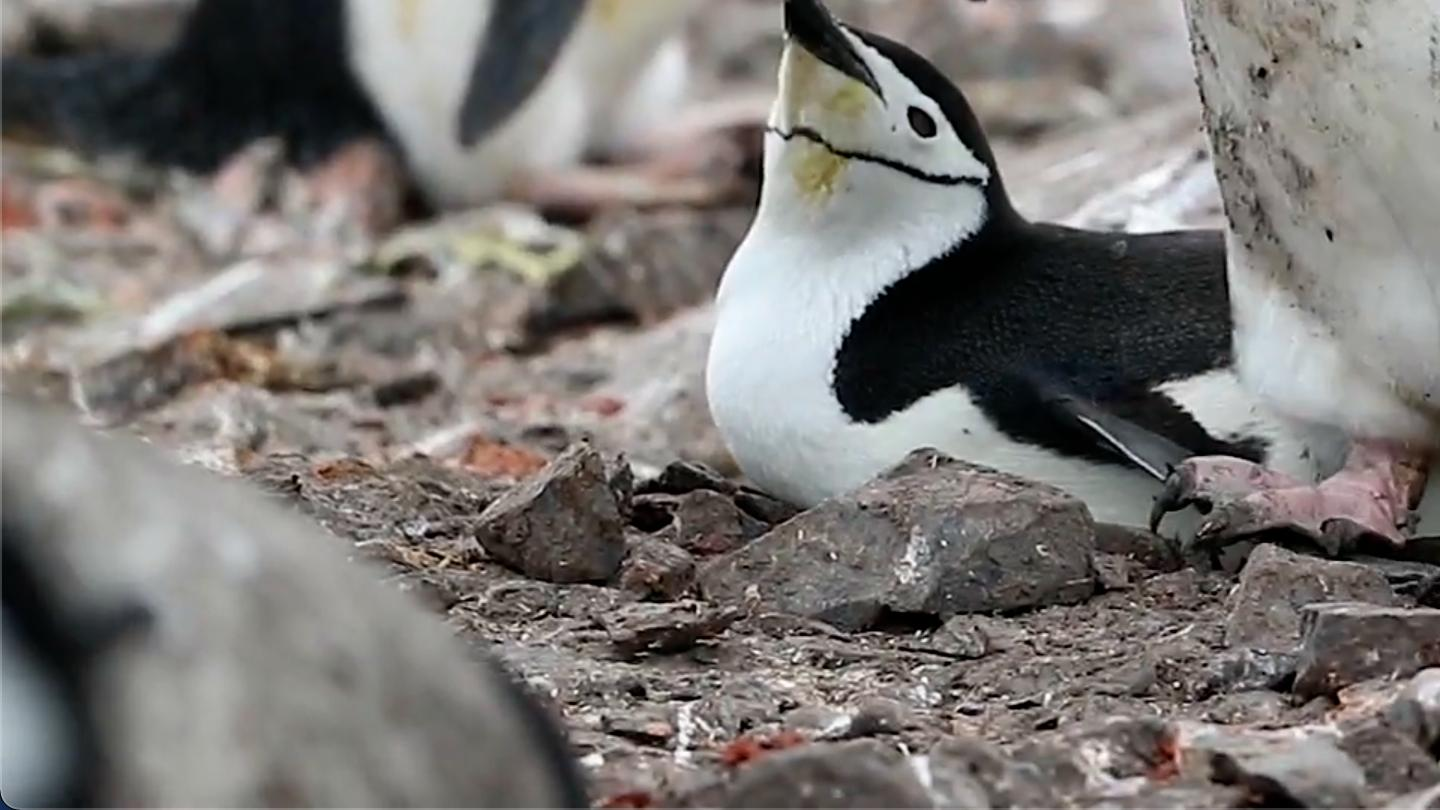Chinstrap Penguin: (908, 0, 1440, 533), (6, 0, 1166, 223), (686, 0, 1186, 494)
